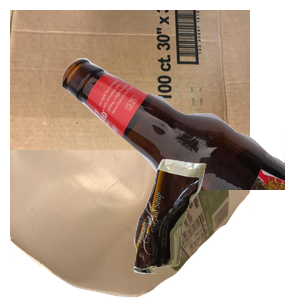cardboard: (10, 10, 250, 190)
glass: (60, 56, 300, 236)
plastic: (10, 150, 250, 300)
trash: (131, 157, 300, 300)
